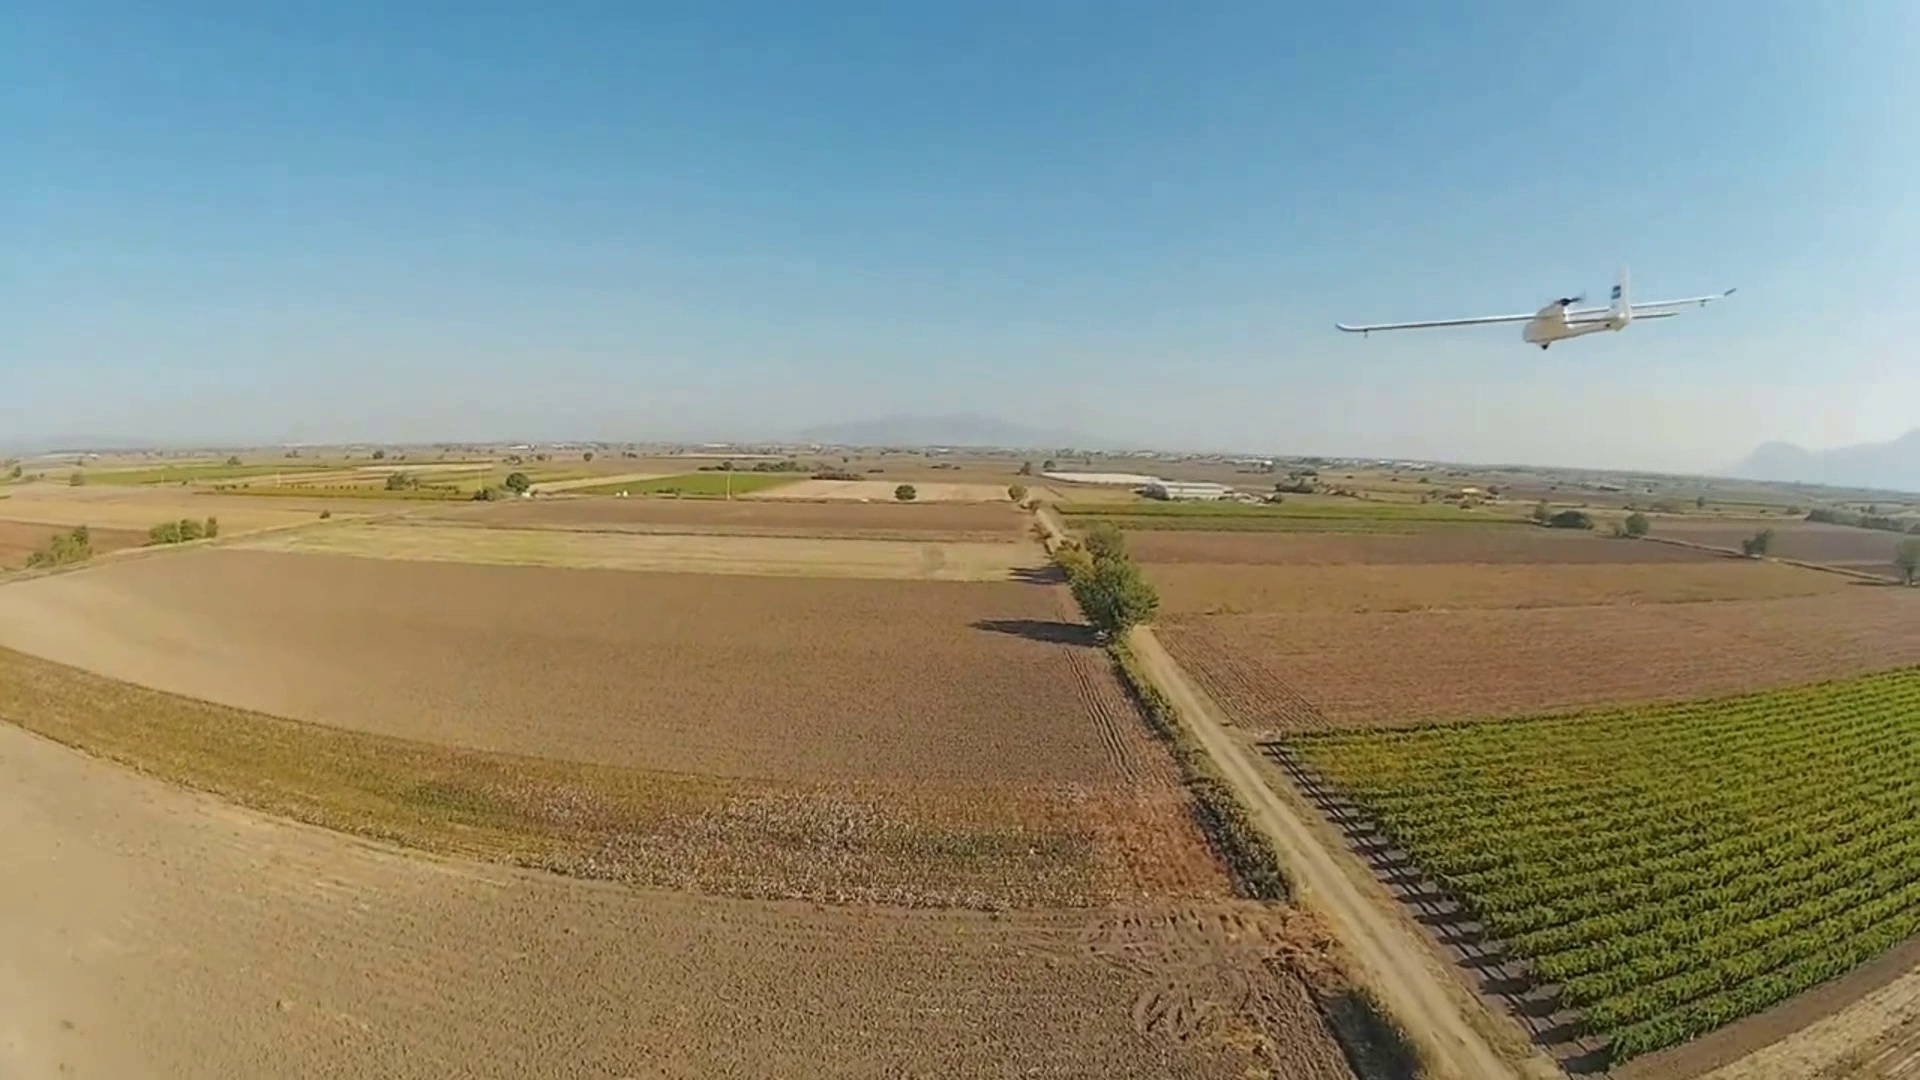airplane: (1333, 269, 1738, 349)
